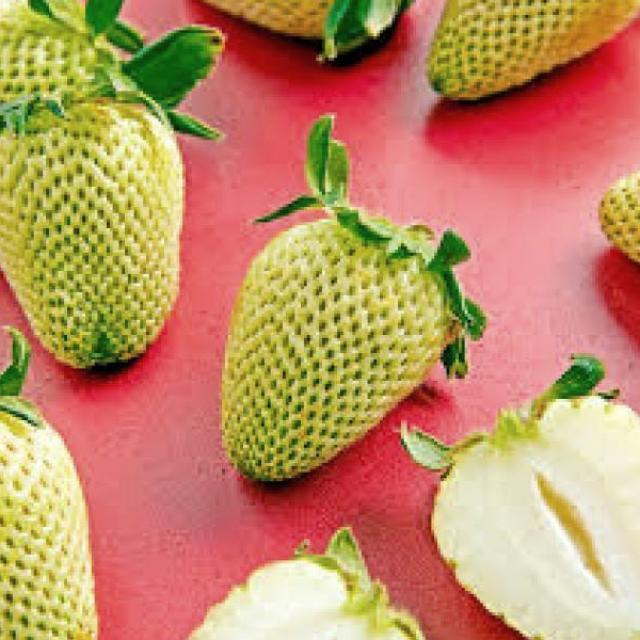Healthy Fruit: (218, 111, 487, 483), (0, 0, 225, 371), (399, 352, 638, 638), (0, 325, 99, 638)
